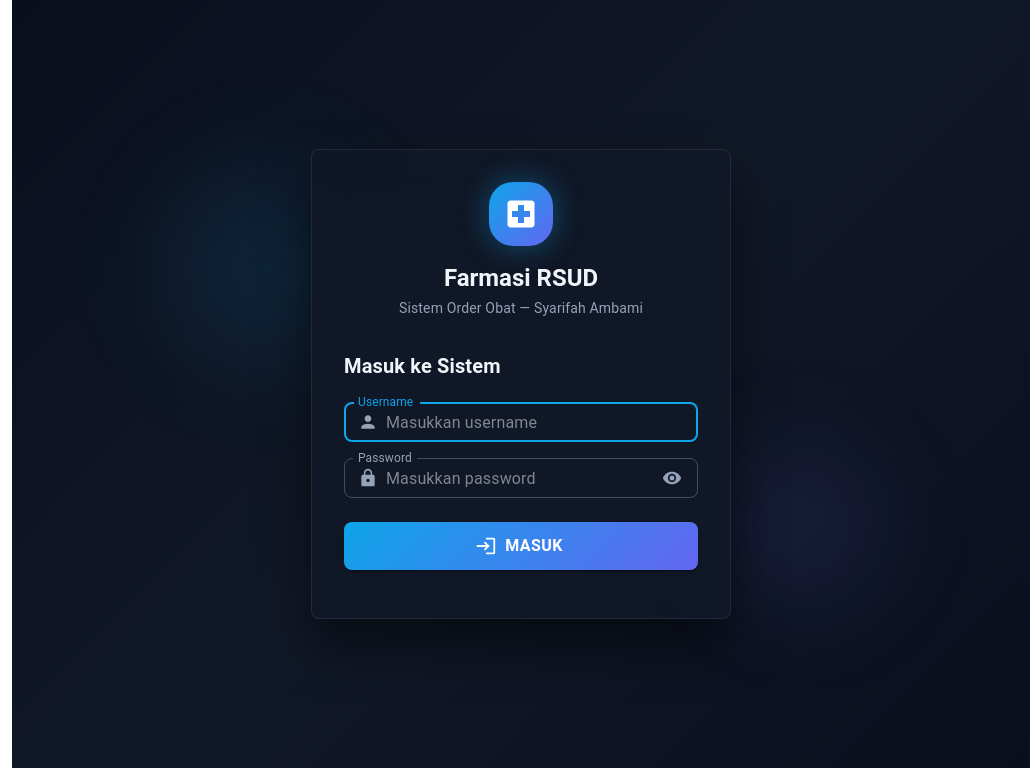
it: LoginPage › stores authentication data and redirects after a successful login
Type "pharmacist" into the field labelled "Username". click: (542, 422)
box: [386,402,698,442]
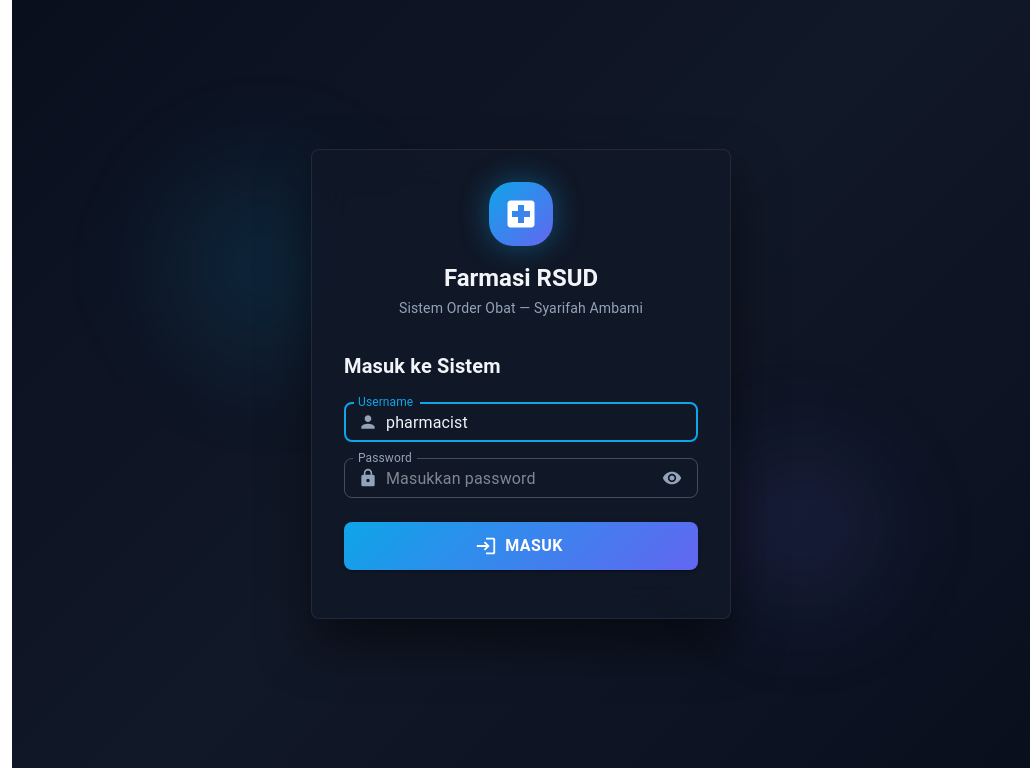
Type "secret" into the password field labelled "Password". click: (518, 478)
box: [386,458,649,498]
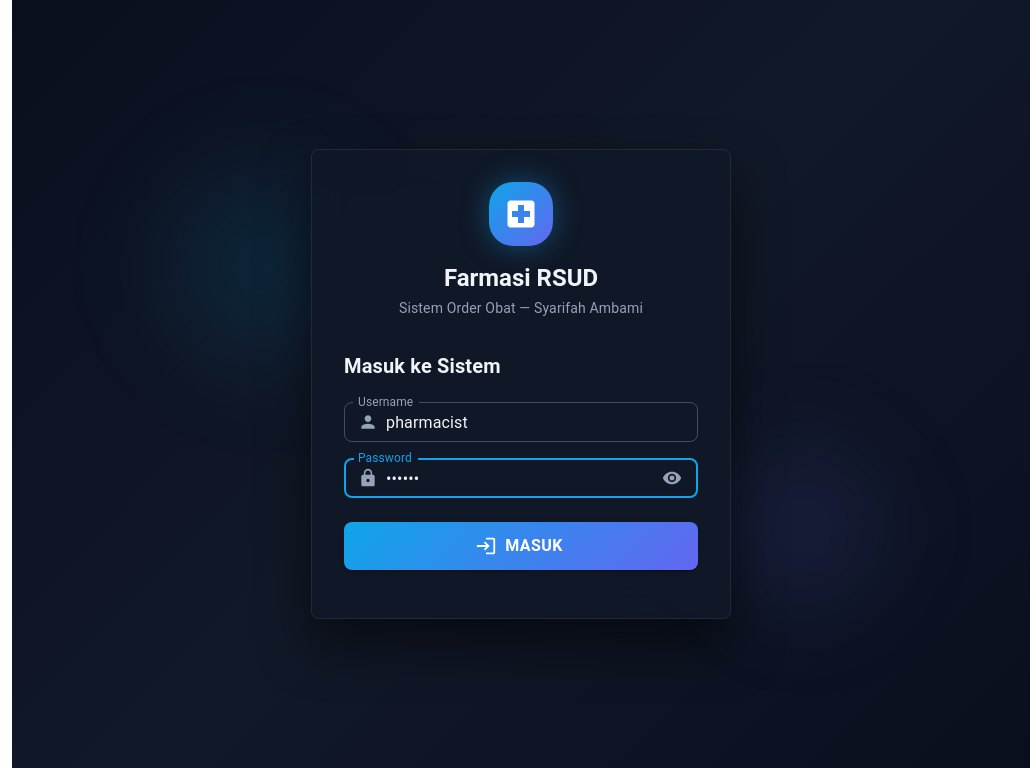
Click the button "Masuk". click: (521, 546)
box: [344,522,698,570]
(page scrolled)
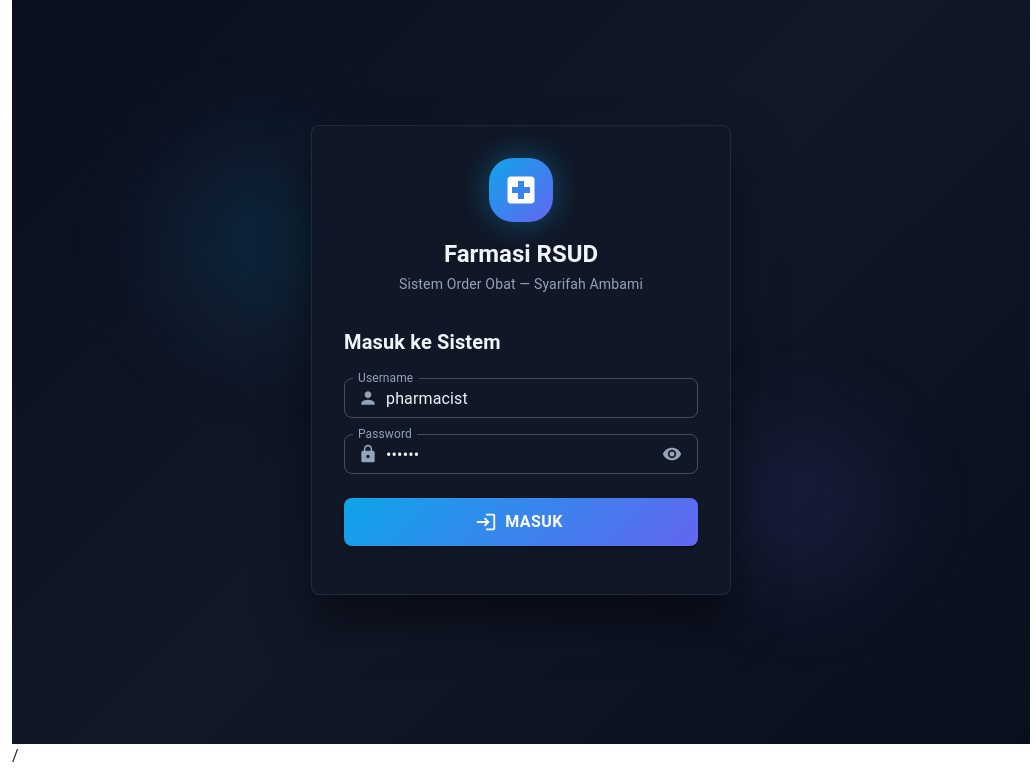
Expected: the text with test id "location" reads "/", [12,746,19,765]
